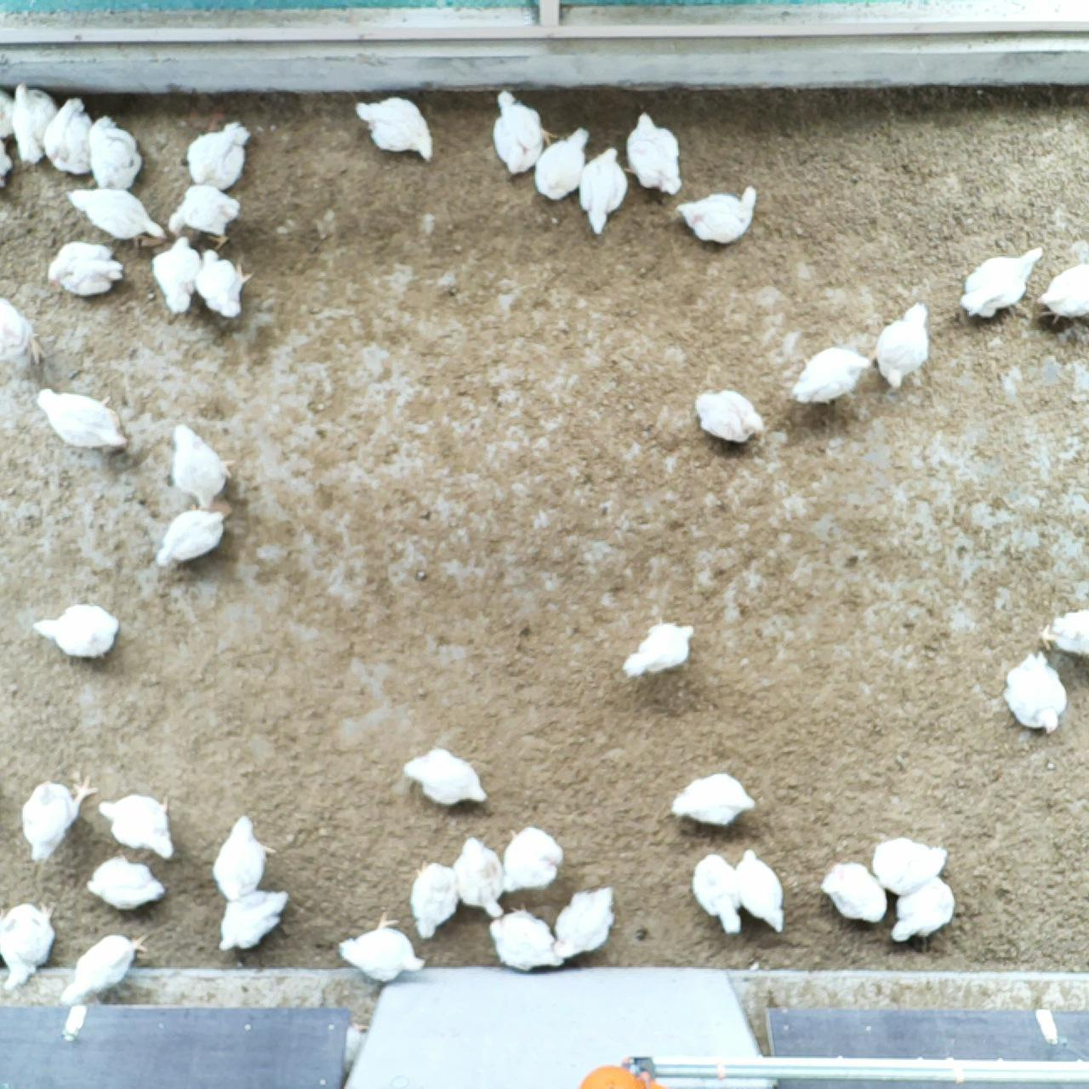chicken: (16, 770, 101, 870), (57, 927, 153, 1010), (33, 384, 131, 460), (955, 244, 1048, 324), (62, 184, 174, 250), (335, 910, 427, 990), (398, 743, 493, 817), (165, 418, 239, 512), (204, 811, 278, 905), (27, 598, 130, 665), (489, 86, 560, 180), (353, 93, 436, 169), (871, 299, 936, 396), (1001, 648, 1069, 740), (617, 106, 685, 196), (487, 900, 569, 974), (0, 898, 62, 995), (151, 501, 232, 575), (95, 790, 178, 862), (663, 769, 757, 832), (674, 181, 761, 249), (571, 144, 634, 237), (164, 181, 246, 251), (549, 882, 618, 965), (785, 344, 874, 408), (868, 834, 950, 903), (619, 611, 697, 683), (448, 830, 509, 921), (732, 845, 791, 938), (185, 114, 254, 193), (214, 887, 291, 957), (888, 872, 957, 950), (531, 123, 595, 206), (501, 822, 569, 899), (39, 91, 98, 179), (83, 852, 168, 913), (7, 79, 63, 171), (43, 238, 126, 300), (406, 855, 463, 945), (192, 244, 257, 322), (688, 851, 745, 939), (690, 383, 766, 449), (86, 110, 146, 193), (148, 232, 203, 320), (820, 859, 889, 927), (1031, 257, 1089, 329), (0, 293, 48, 379), (1038, 605, 1089, 666)
